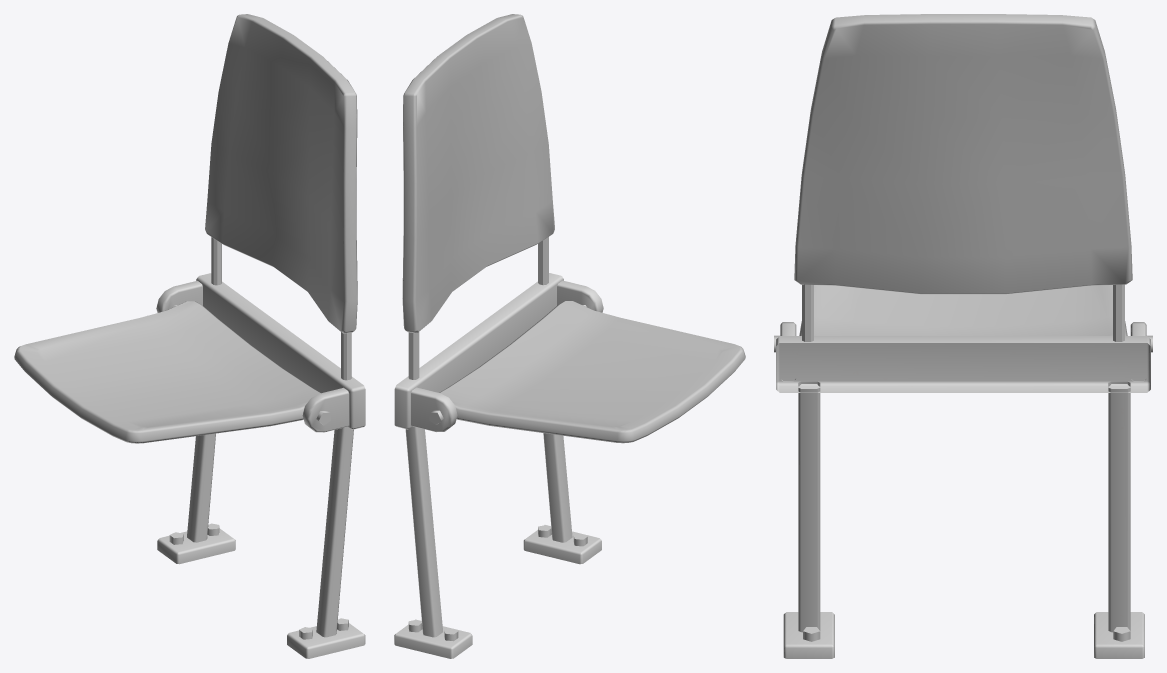
The model's file is FoldingChair.FBX.
3 views of the same model, side by side, from view 1: azimuth 30°, elevation 25°; view 2: azimuth 150°, elevation 25°; view 3: azimuth 270°, elevation 25° (orthographic). The views are drawn at different scales.
Visible parts, largest first — view 1: Pool_TribuneChair; view 2: Pool_TribuneChair; view 3: Pool_TribuneChair.
Boxes of the visible parts, box(x1,y1,x2,y2) form: Pool_TribuneChair: box(14, 14, 365, 658); Pool_TribuneChair: box(394, 14, 745, 658); Pool_TribuneChair: box(774, 14, 1152, 658).
Size of the model in its own units: 61.69 by 131 by 69.11.
